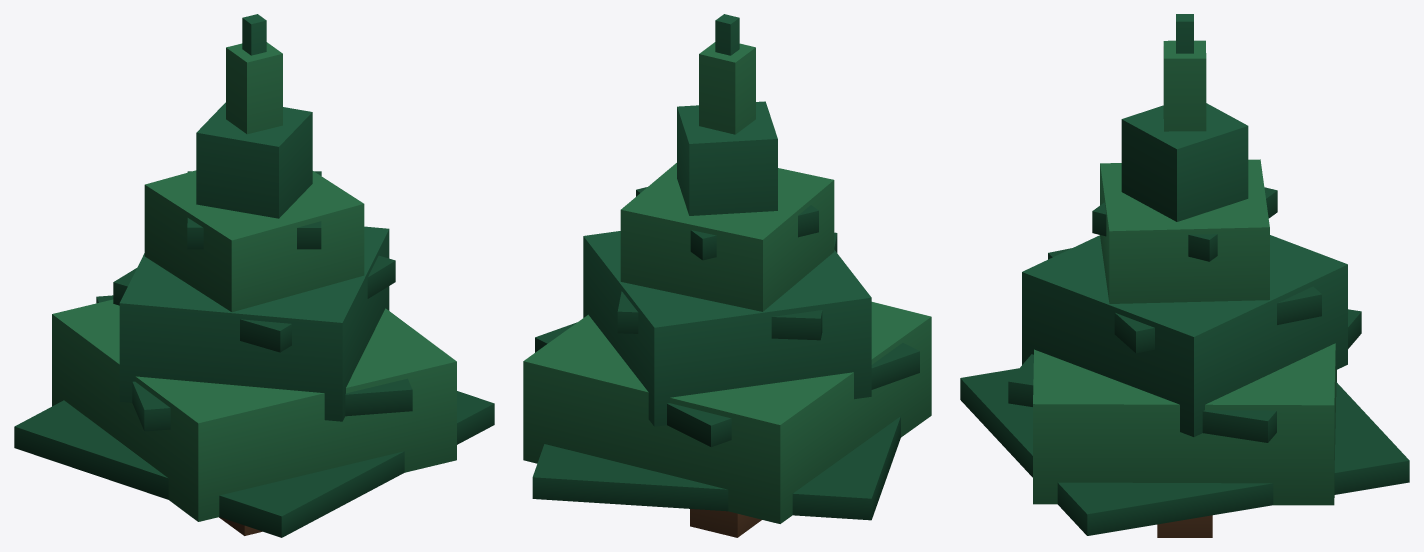
File: A02_spruce_medium.glb
3 renders of one model, left to right at view 1: azimuth 30°, elevation 25°; view 2: azimuth 150°, elevation 25°; view 3: azimuth 270°, elevation 25°, orthographic.
Parts seen in each view (by area): view 1: A02_spruce_medium; view 2: A02_spruce_medium; view 3: A02_spruce_medium.
Boxes of the visible parts, left/top/right/bottom form: A02_spruce_medium: left=14, top=14, right=494, bottom=537; A02_spruce_medium: left=523, top=14, right=931, bottom=537; A02_spruce_medium: left=960, top=14, right=1409, bottom=537.
Size of the model in its own units: 4.47 by 5.59 by 4.47.
